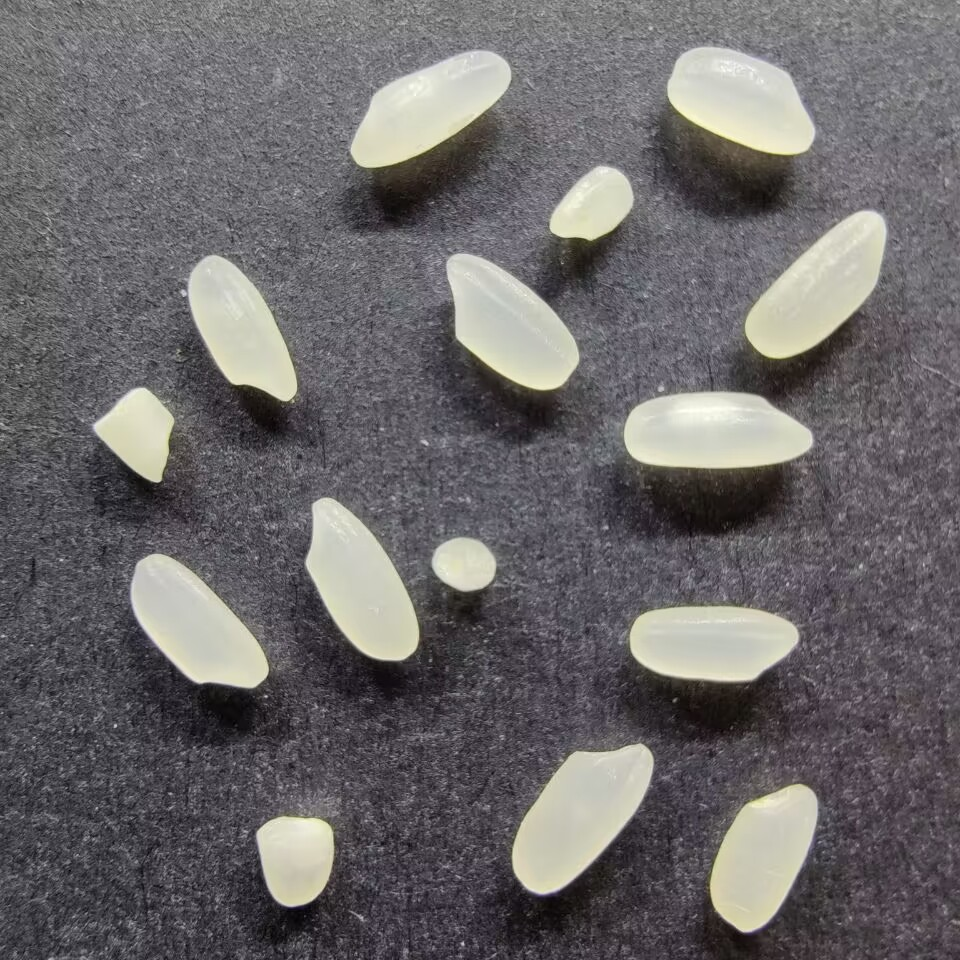broken: (91, 384, 176, 487), (253, 814, 335, 908), (548, 165, 635, 243), (429, 534, 496, 595)
rice: (509, 742, 655, 896), (742, 208, 887, 360), (348, 48, 512, 169), (302, 496, 421, 662), (128, 552, 270, 690), (444, 251, 578, 390), (707, 782, 821, 936), (185, 253, 298, 403), (665, 45, 817, 156), (622, 388, 813, 470), (628, 604, 800, 683)
